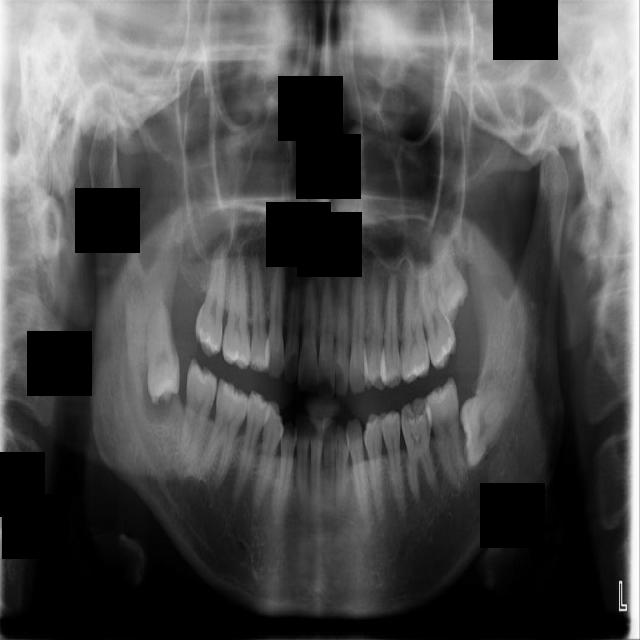73: (596, 544, 600, 550)
BioHorizons Implant: (413, 255, 462, 374)
BioLife Implant: (424, 227, 476, 327)
Biomet 3i Implant: (457, 388, 510, 469)
Blue Sky Bio Implant: (420, 376, 467, 492)
Caries: (193, 238, 233, 359)
Implant: (175, 356, 221, 474)
Keystone Dental Implant: (141, 302, 183, 407)
